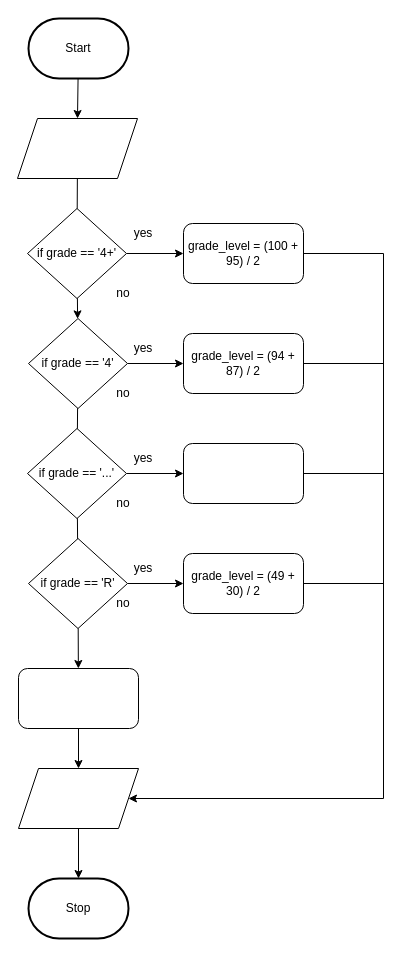
Some shapes in this 409 by 956 pixel diagram are drawn without their labels. Here are the shapes that lost their labels. From the top down, the centre of each, then its label:
point 77,148: Get grade
point 243,473: grade_level = (x + y) / 2
point 78,698: percentage = -1
point 78,798: return grade_level
